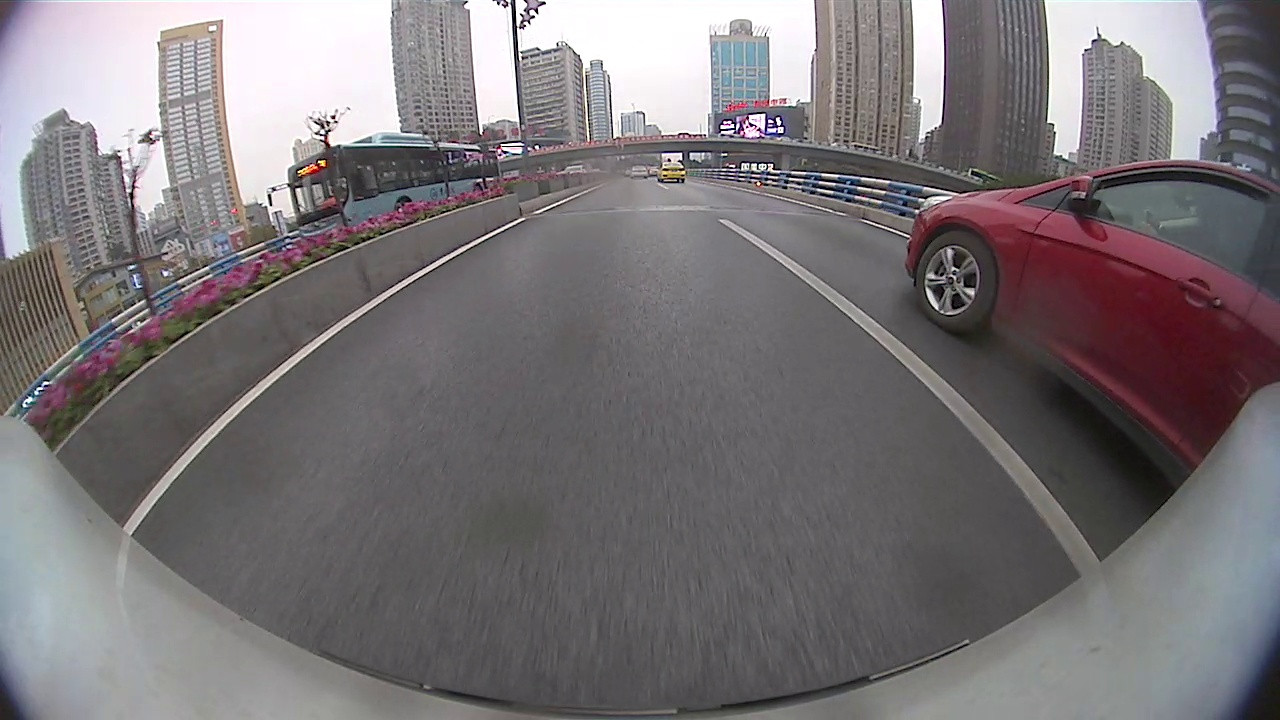bus: (282, 126, 511, 246)
car: (902, 152, 1274, 499), (655, 159, 688, 184), (559, 162, 591, 176), (628, 162, 651, 180)
front: (913, 225, 997, 337)
